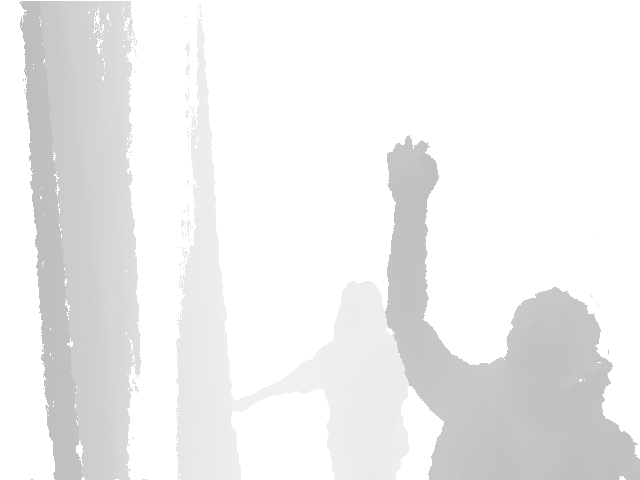hand: (387, 136, 439, 197)
head: (506, 287, 601, 397), (332, 283, 388, 340)
person: (387, 136, 640, 480), (226, 283, 412, 480)
